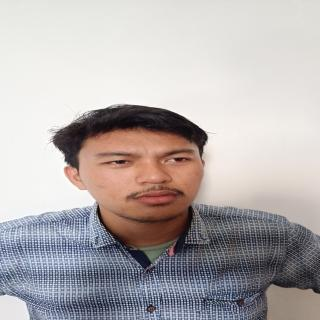Marah: (60, 122, 235, 224)
